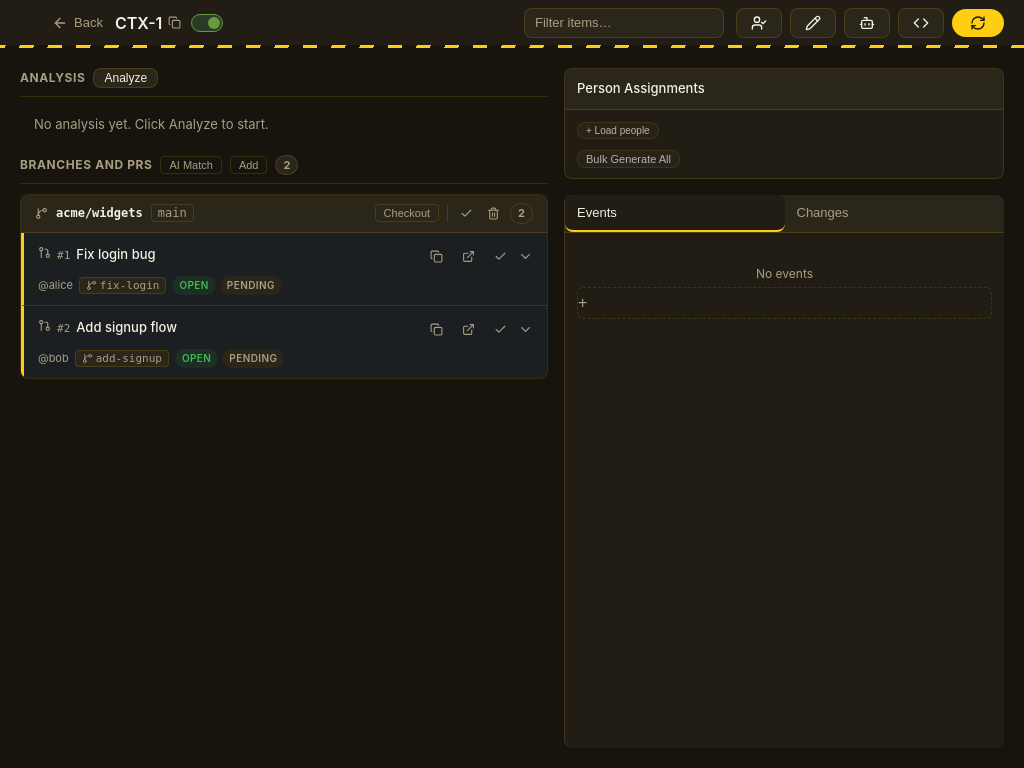
Test: ContextDetail PR filtering › filters the PR list to itemMatch.prIds when a search is active
Expected: the text "Fix login bug" is shown, [76,244,156,264]
In the field with placeholder "Filter items…": x=624, y=22 [524,8,724,38], type "login"
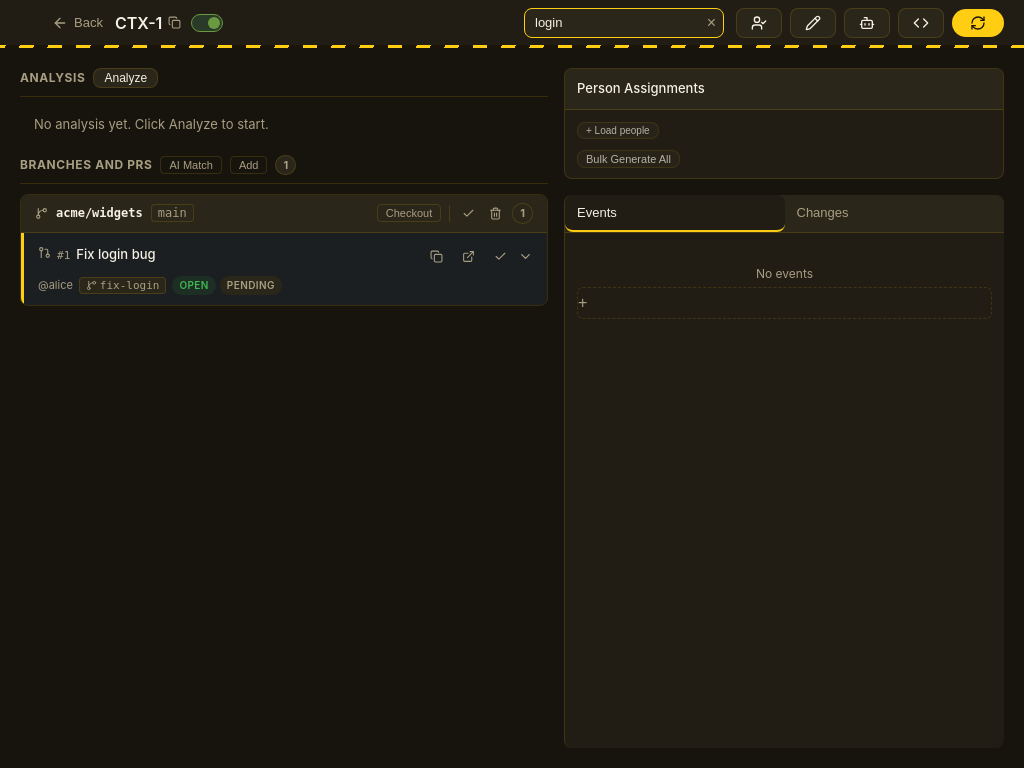
Expected: the text "Fix login bug" is shown, [76,244,156,264]
Expected: the text "Add signup flow" is gone
